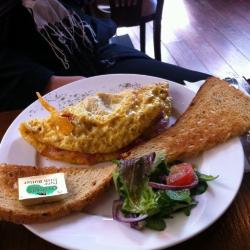bread: (124, 72, 247, 163), (1, 160, 119, 222)
omelette: (30, 81, 172, 156)
salad: (117, 164, 206, 216)
